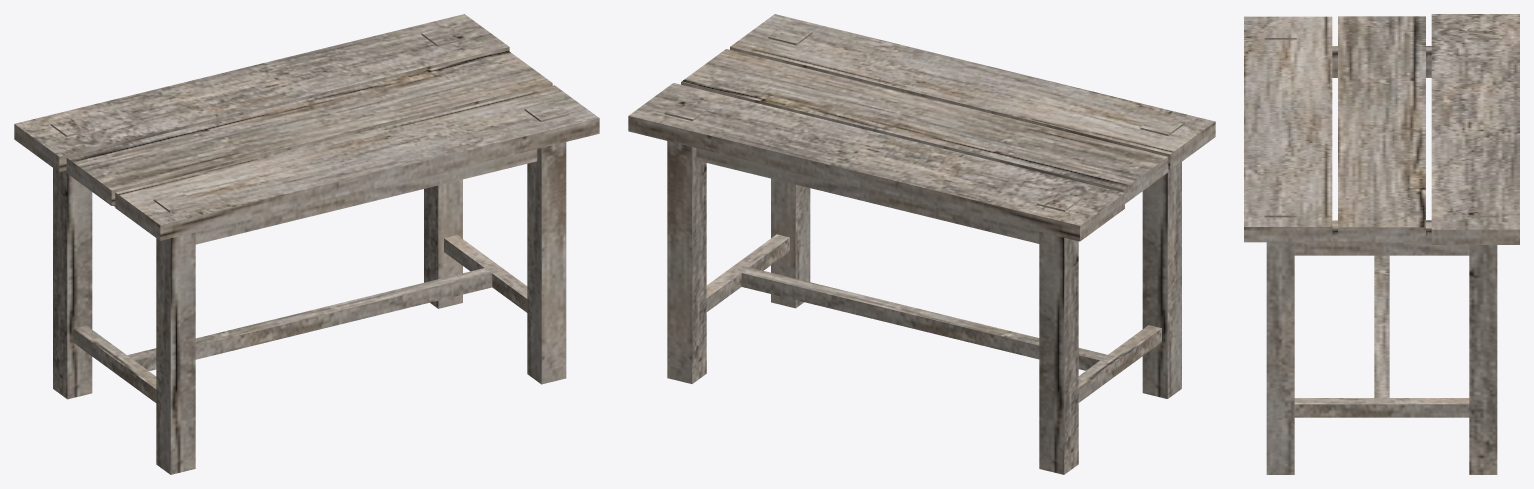
The model's file is table_tex.glb.
3 views of the same model, side by side, from view 1: azimuth 30°, elevation 25°; view 2: azimuth 150°, elevation 25°; view 3: azimuth 270°, elevation 25° (orthographic). The views are drawn at different scales.
Visible parts, largest first — view 1: table; view 2: table; view 3: table.
Part boxes in pixels (left/top/right/bottom): table: left=14, top=14, right=599, bottom=474; table: left=628, top=14, right=1215, bottom=474; table: left=1244, top=14, right=1519, bottom=474.
Bounding box in the file's own units: 1.36 × 0.765 × 0.735.
1 material, 1 textured.
